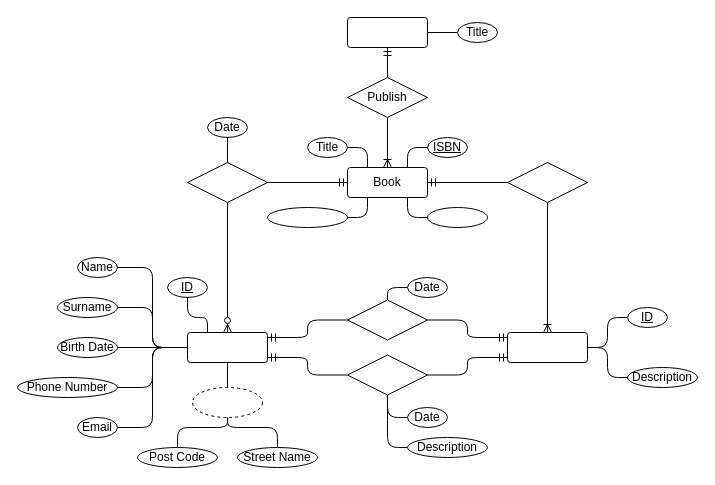
Some shapes in this 715 by 485 pixel diagram are drawn without their labels. The centre of each missing label's shape, as x and y in pixels:
"Borrow" belongs at point 387,319.
"Category" belongs at point 457,217.
"Copy" belongs at point 547,347.
"Has Copy" belongs at point 547,182.
"Person" belongs at point 227,347.
"Postal Address" belongs at point 227,402.
"Publishing House" belongs at point 387,32.
"Release Year" belongs at point 307,217.
"Request" belongs at point 227,182.
"Return" belongs at point 387,374.
